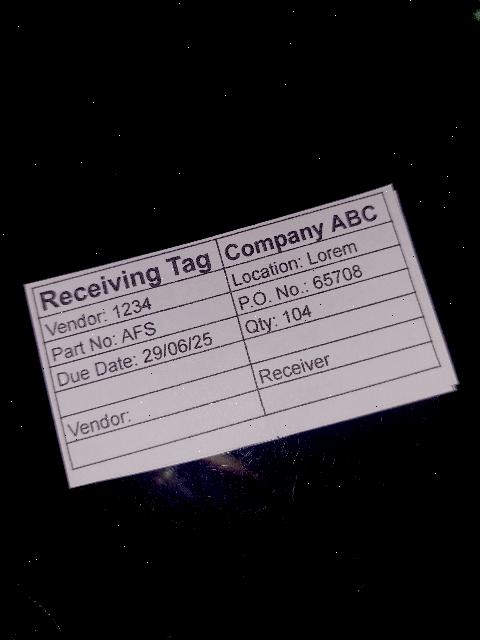PO no: (231, 244, 408, 315)
part no: (43, 292, 237, 367)
qty: (238, 269, 416, 340)
tags: (24, 185, 458, 487)
